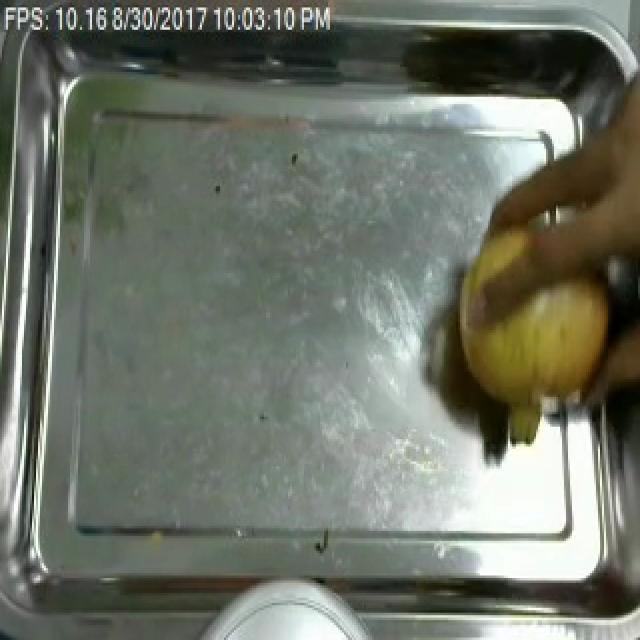fruit: (442, 201, 628, 466)
